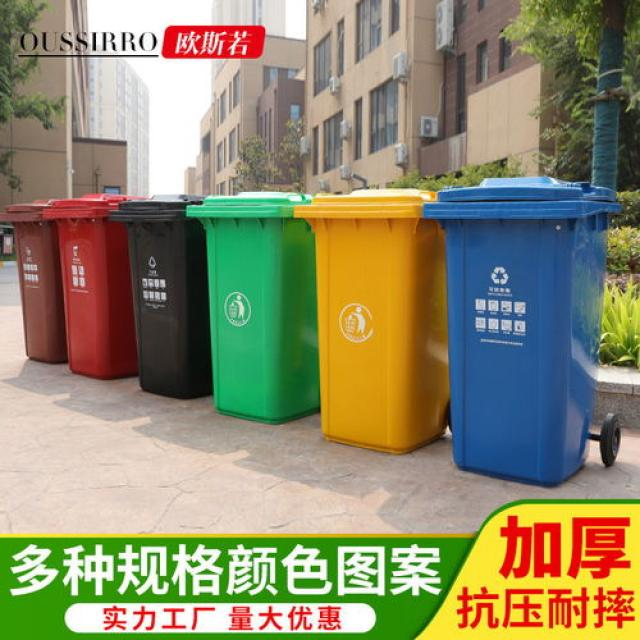garbage_bin: (421, 174, 618, 486), (292, 187, 448, 454), (185, 188, 318, 424), (106, 193, 212, 398), (40, 191, 143, 380), (0, 197, 67, 365)
